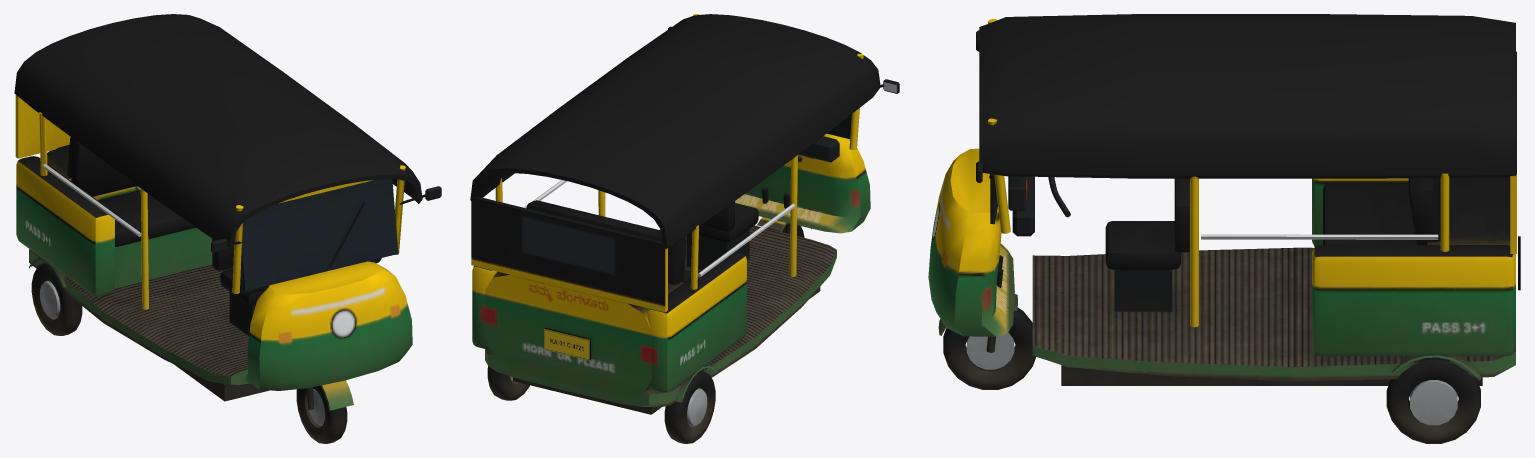
File: auto_rickshaw.glb
3 renders of one model, left to right at view 1: azimuth 30°, elevation 25°; view 2: azimuth 150°, elevation 25°; view 3: azimuth 270°, elevation 25°, orthographic. The views are drawn at different scales.
Parts seen in each view (by area): view 1: auto_rickshaw; view 2: auto_rickshaw; view 3: auto_rickshaw.
Boxes of the visible parts, x1=… form: auto_rickshaw: x1=14, y1=14, x2=441, y2=443; auto_rickshaw: x1=470, y1=14, x2=899, y2=443; auto_rickshaw: x1=928, y1=14, x2=1520, y2=443.
Bounding box in the file's own units: 1.5 × 1.7 × 2.67.
1 material, 1 textured.
